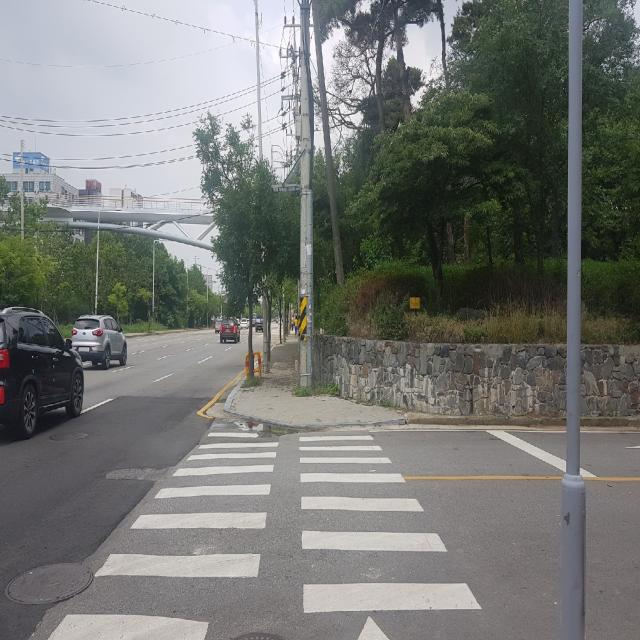횡단보도: (45, 430, 483, 640)
